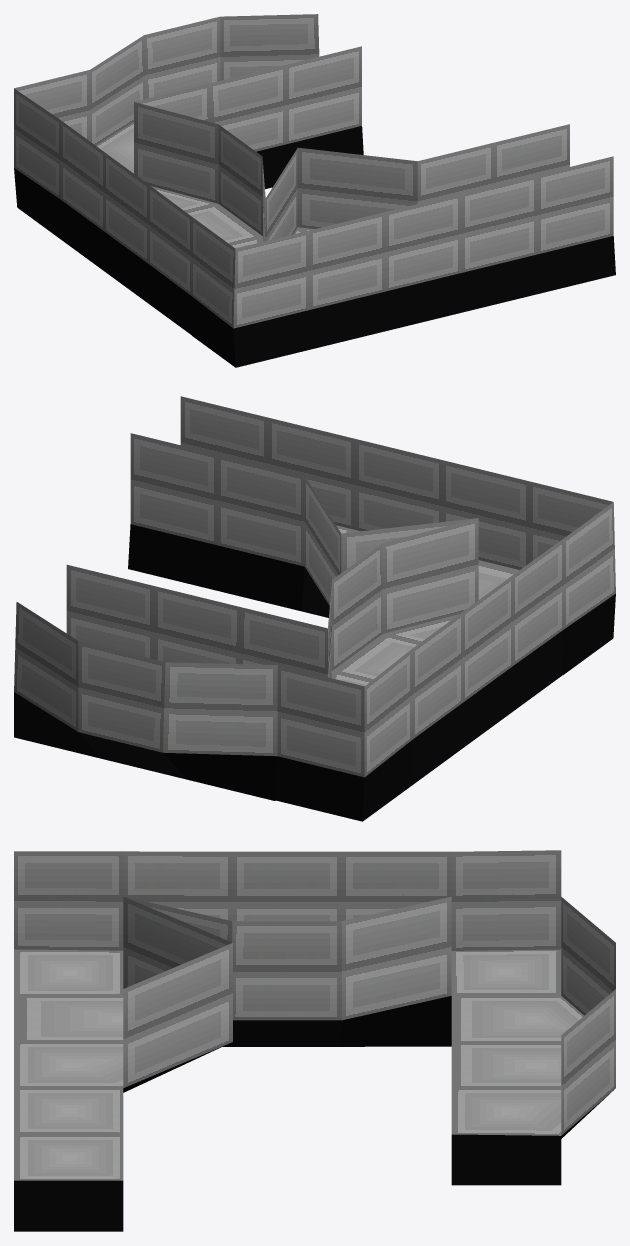
File: FunkyNturn.gltf
3 views of the same model, one above another, from view 1: azimuth 30°, elevation 25°; view 2: azimuth 150°, elevation 25°; view 3: azimuth 270°, elevation 25° (orthographic). The views are drawn at different scales.
Parts seen in each view (by area): view 1: FunkyNturn; view 2: FunkyNturn; view 3: FunkyNturn.
Boxes of the visible parts, x1,y1,x2,y2 form: FunkyNturn: [14, 14, 615, 367]; FunkyNturn: [14, 396, 615, 821]; FunkyNturn: [14, 850, 615, 1231].
Size of the model in its own units: 10.06 by 3 by 11.
Materials: 2 (1 with a texture image).
